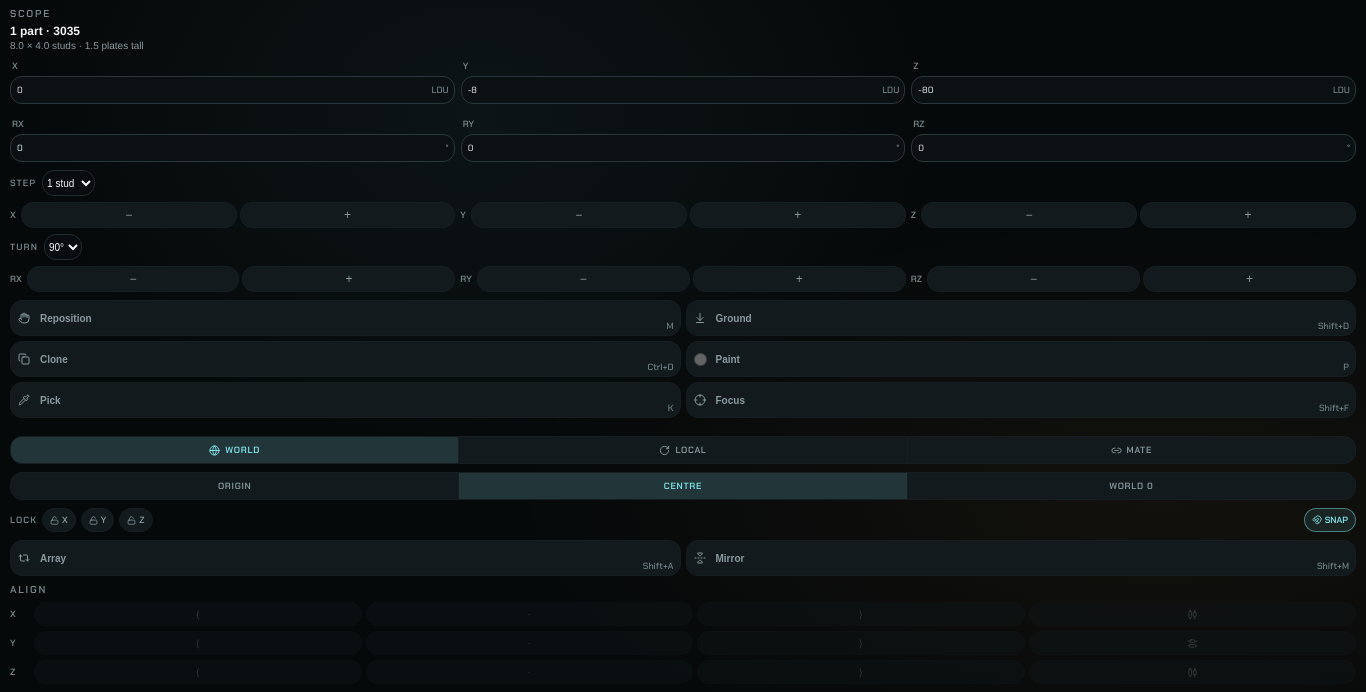
Test: transform controls › offers world, local and connector reference frames
The width and height of the screenshot is (1366, 692).
Click the radio button labelled "LOCAL" at {"x": 683, "y": 450}, box top-left (459, 437), bottom-right (907, 463)
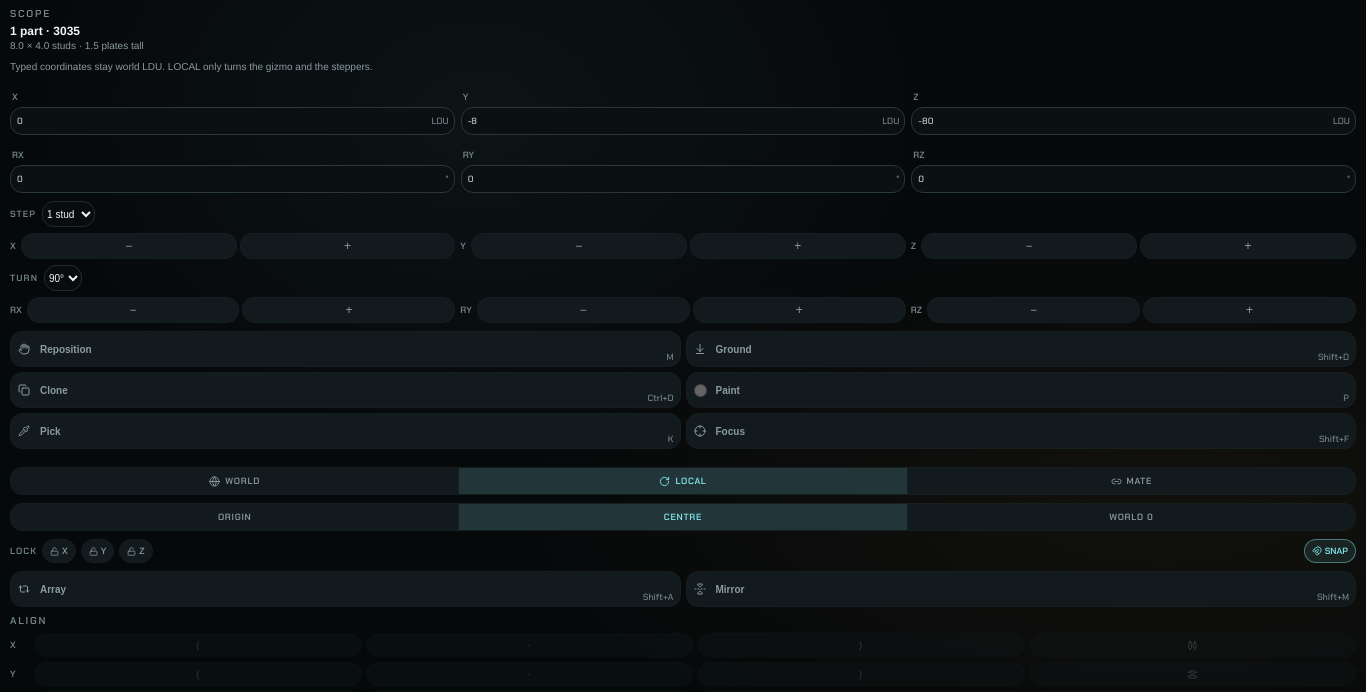
Expected: the text "Typed coordinates stay world LDU" is shown, top-left (10, 62), bottom-right (168, 73)
